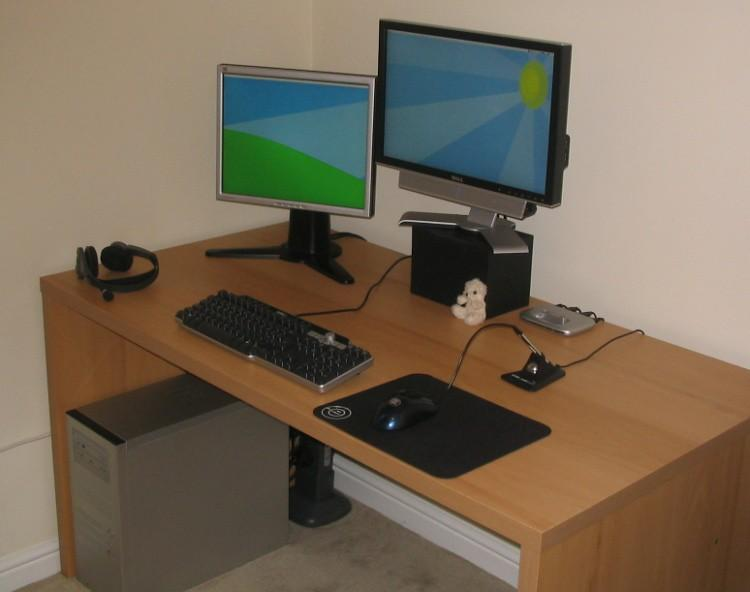computer: (65, 372, 291, 592), (375, 18, 573, 254), (206, 62, 378, 286)
